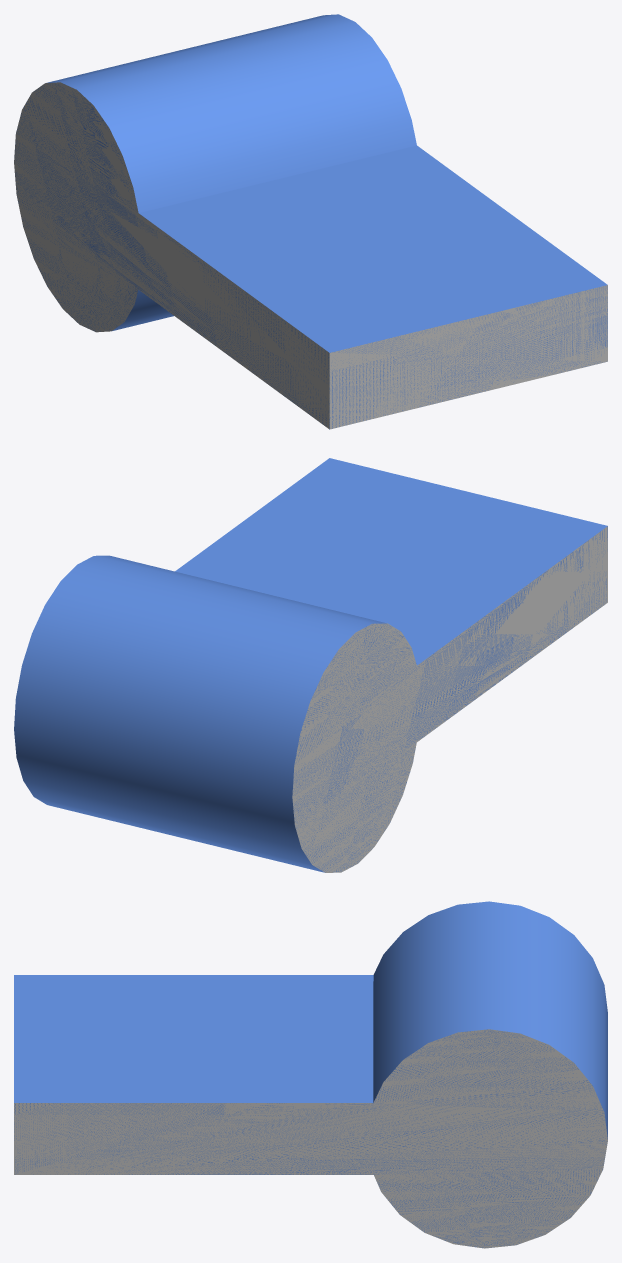
Rendered from original-11.obj.
The picture shows the model from 3 angles, top to bottom: view 1: azimuth 30°, elevation 25°; view 2: azimuth 150°, elevation 25°; view 3: azimuth 270°, elevation 25°; orthographic projection. The views are drawn at different scales.
Parts seen in each view (by area): view 1: mesh15/mesh15-geometry#mesh15-geometry; view 2: mesh15/mesh15-geometry#mesh15-geometry; view 3: mesh15/mesh15-geometry#mesh15-geometry.
Boxes of the visible parts, x1,y1,x2,y2 form: mesh15/mesh15-geometry#mesh15-geometry: (14,14,607,429); mesh15/mesh15-geometry#mesh15-geometry: (14,458,607,872); mesh15/mesh15-geometry#mesh15-geometry: (14,901,607,1248).
Size of the model in its own units: 0.0171 by 0.0137 by 0.0336.
